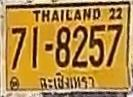1: (32, 26, 38, 70)
2: (72, 25, 87, 65)
5: (88, 24, 104, 66)
7: (106, 23, 122, 66), (11, 26, 25, 68)
8: (56, 26, 69, 66)
CCO: (35, 70, 97, 92)
